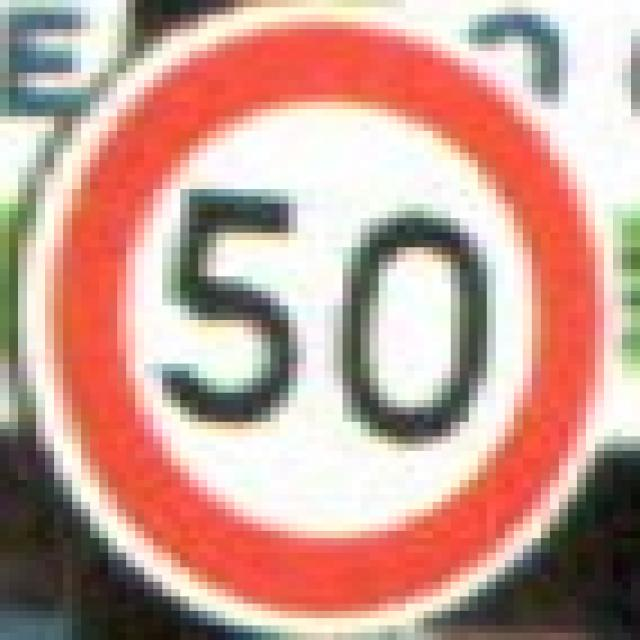speed_50: (0, 0, 631, 633)
